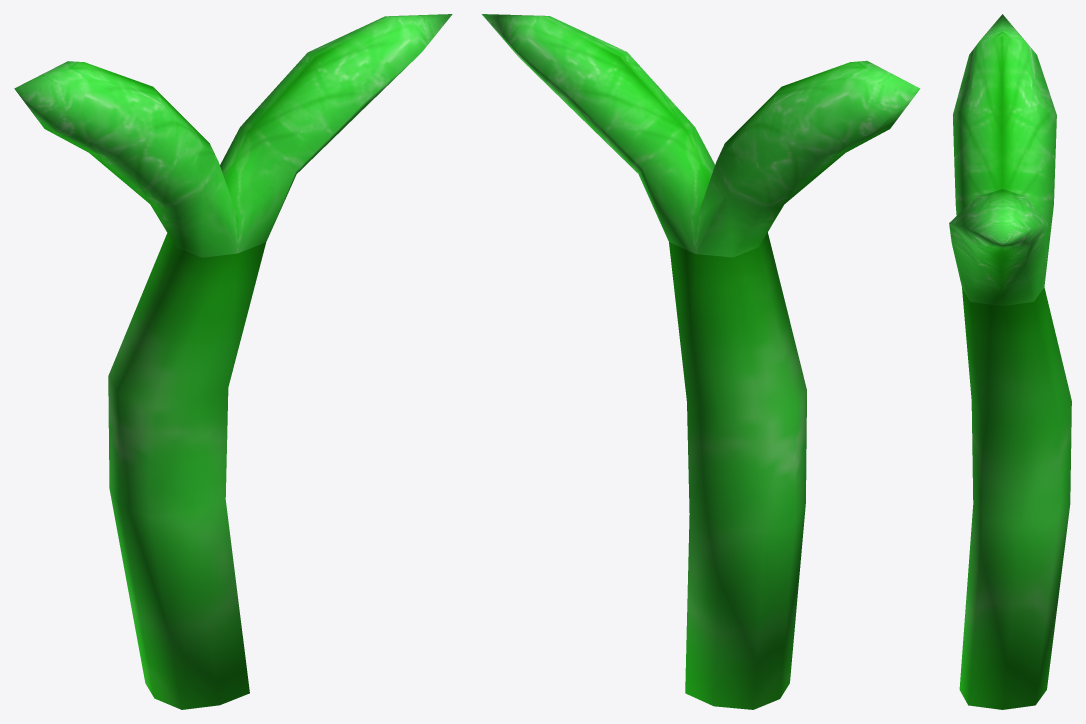
3 views of the same model, side by side, from view 1: azimuth 30°, elevation 25°; view 2: azimuth 150°, elevation 25°; view 3: azimuth 270°, elevation 25° (orthographic). The views are drawn at different scales.
Parts seen in each view (by area): view 1: 立方体; view 2: 立方体; view 3: 立方体.
Boxes of the visible parts, bbox=[...] form: 立方体: bbox=[14, 14, 452, 709]; 立方体: bbox=[482, 14, 920, 709]; 立方体: bbox=[949, 14, 1071, 709].
Size of the model in its own units: 1.38 by 1.96 by 0.3627.
